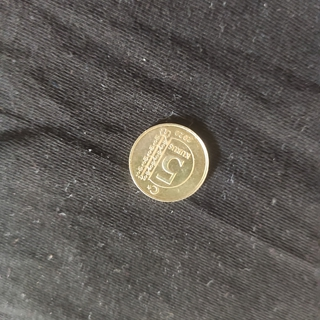5KURUS: (126, 120, 212, 204)
